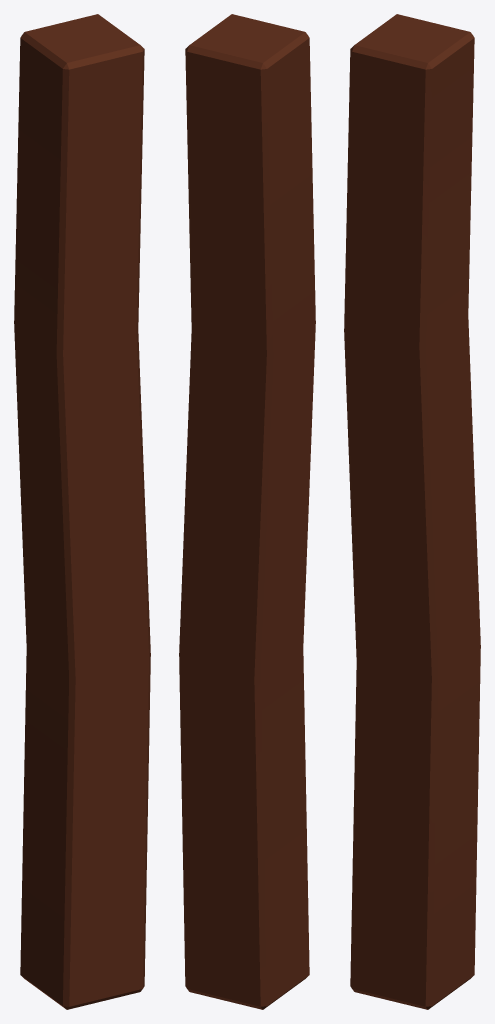
File: Beam_Vert.fbx
The picture shows the model from 3 angles, left to right: view 1: azimuth 30°, elevation 25°; view 2: azimuth 150°, elevation 25°; view 3: azimuth 330°, elevation 25°; orthographic projection.
Parts seen in each view (by area): view 1: Beam_Single_Vert; view 2: Beam_Single_Vert; view 3: Beam_Single_Vert.
Boxes of the visible parts, x1=… form: Beam_Single_Vert: x1=14, y1=14, x2=150, y2=1009; Beam_Single_Vert: x1=179, y1=14, x2=315, y2=1009; Beam_Single_Vert: x1=344, y1=14, x2=480, y2=1009.
Bounding box in the file's own units: 0.0021 × 0.0201 × 0.00182.
